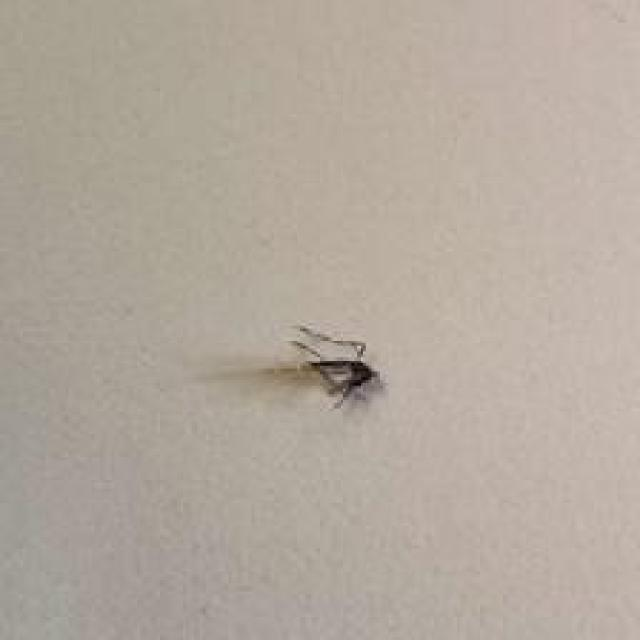Aedes albopictus: (286, 323, 383, 408)
